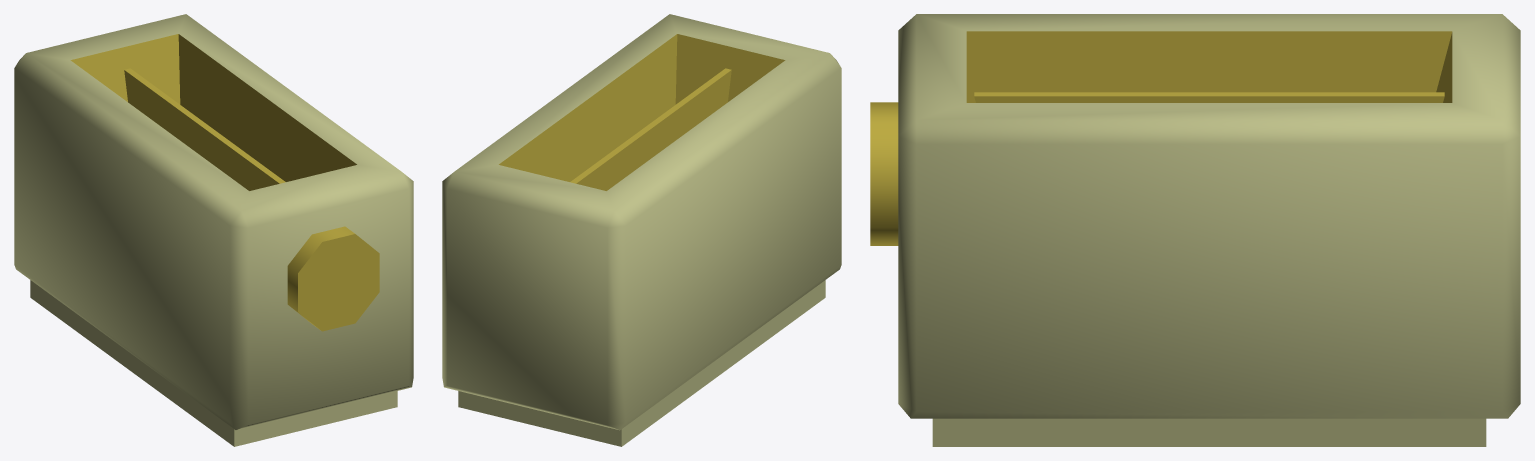
Rendered from toaster.fbx.
3 renders of one model, left to right at view 1: azimuth 30°, elevation 25°; view 2: azimuth 150°, elevation 25°; view 3: azimuth 270°, elevation 25°, orthographic. The views are drawn at different scales.
Visible parts, largest first — view 1: toaster; view 2: toaster; view 3: toaster.
Part boxes in pixels (x1,y1,x2,y2): toaster: [14, 14, 413, 446]; toaster: [442, 14, 841, 446]; toaster: [870, 14, 1520, 446].
Size of the model in its own units: 3.02 by 6.83 by 3.78.
